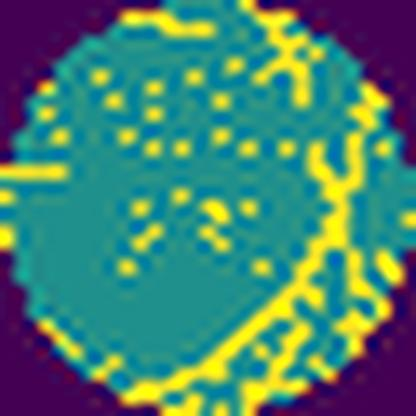Scratch: (122, 71, 408, 416), (238, 0, 338, 113), (0, 152, 88, 196)
